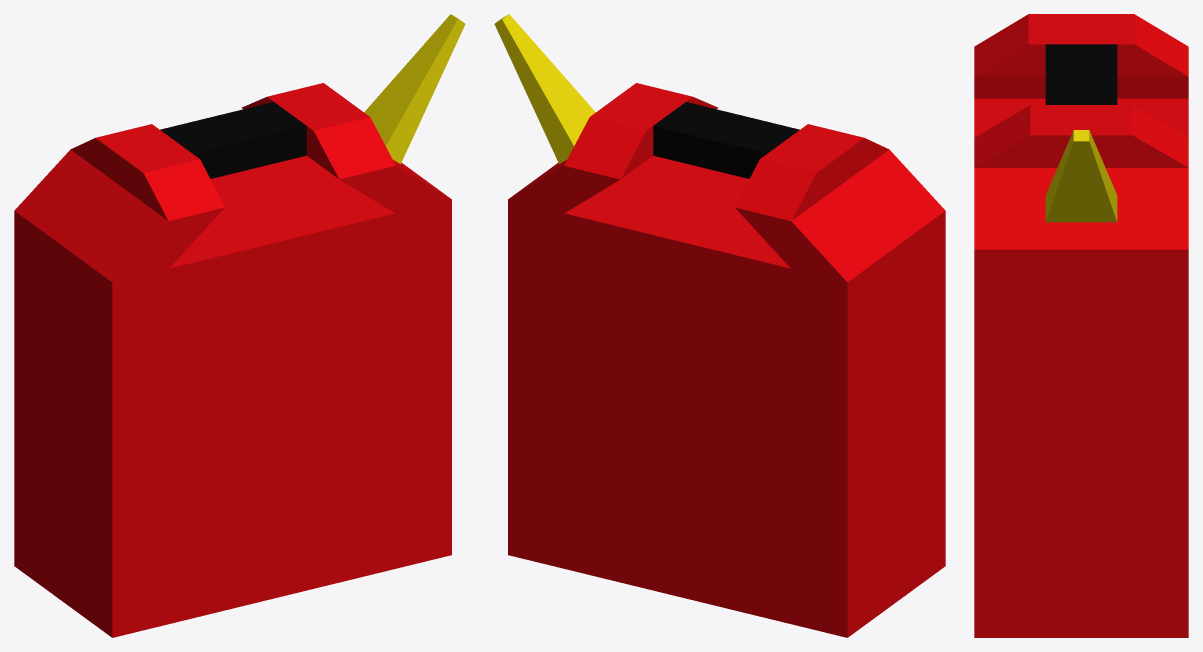
The model's file is Fuel.fbx.
The picture shows the model from 3 angles, left to right: view 1: azimuth 30°, elevation 25°; view 2: azimuth 150°, elevation 25°; view 3: azimuth 270°, elevation 25°; orthographic projection. The views are drawn at different scales.
Parts seen in each view (by area): view 1: Cube; view 2: Cube; view 3: Cube.
Part boxes in pixels (<box>): Cube: <box>14,14,465,637</box>; Cube: <box>494,14,945,637</box>; Cube: <box>974,14,1188,637</box>.
Bounding box in the file's own units: 235 × 276 × 100.
